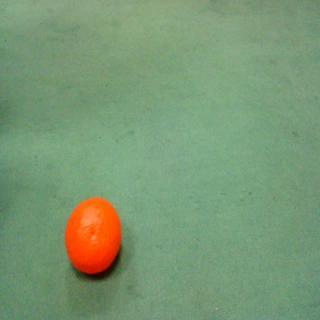orange: (63, 195, 123, 282)
